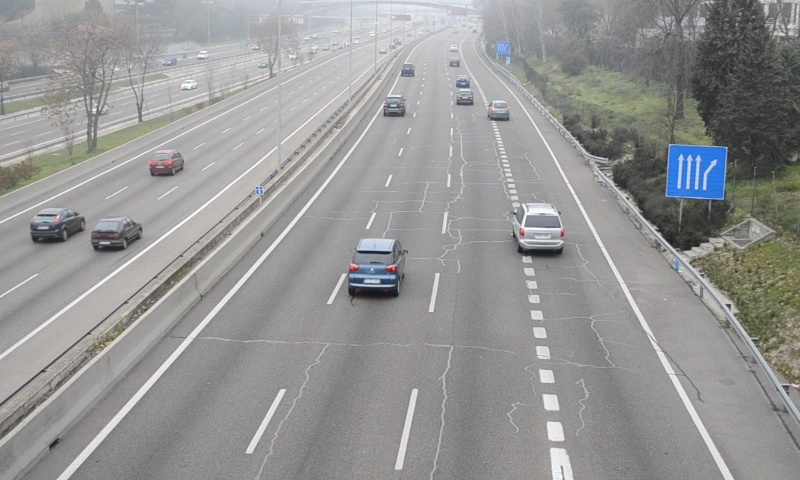car: (346, 238, 405, 292), (514, 203, 564, 251), (487, 99, 510, 121), (384, 94, 406, 117), (456, 88, 474, 106)
